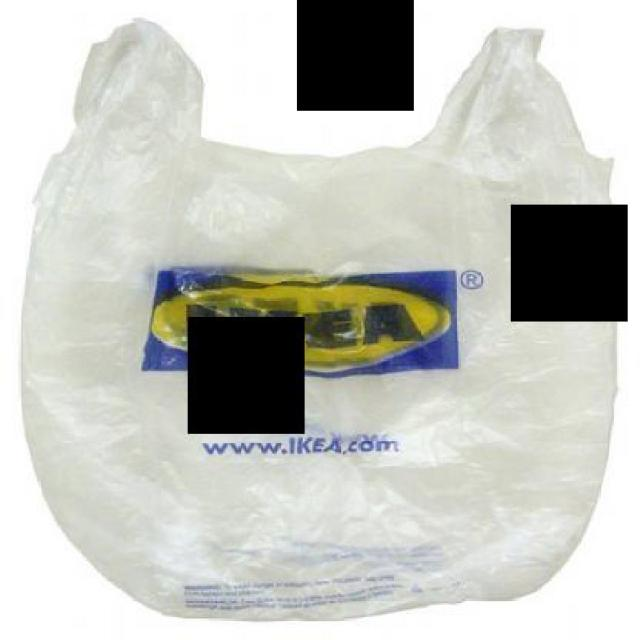plastic bag: (20, 8, 635, 622)
